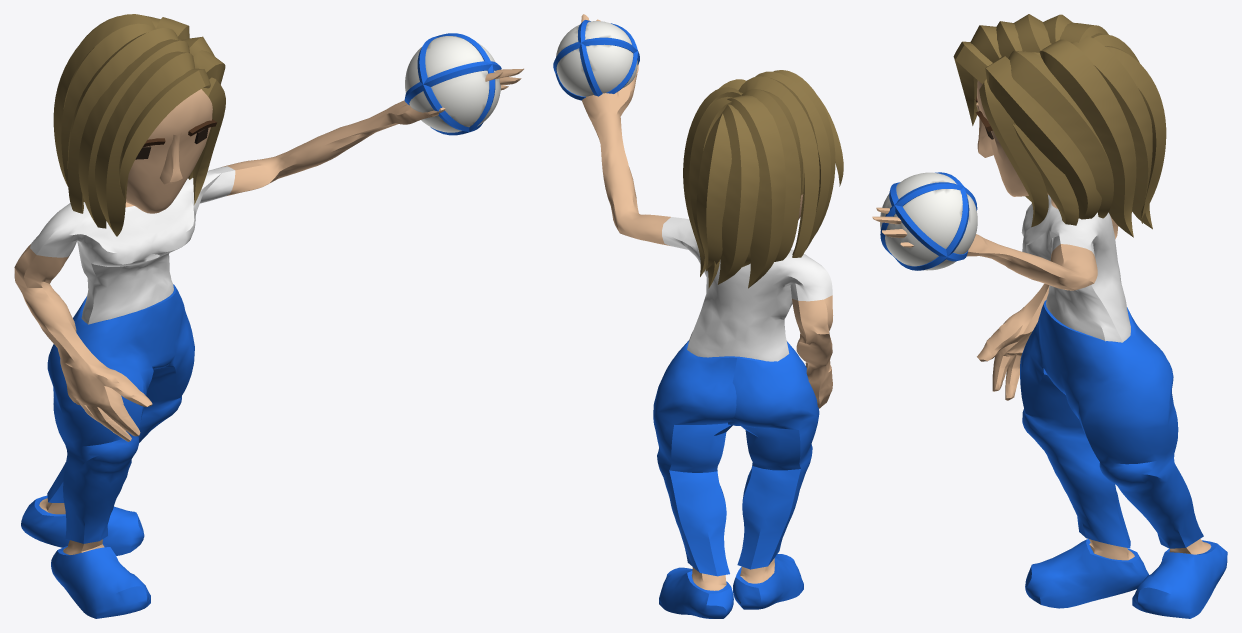
File: av-menina-volei.glb
3 views of the same model, side by side, from view 1: azimuth 30°, elevation 25°; view 2: azimuth 150°, elevation 25°; view 3: azimuth 270°, elevation 25° (orthographic). The views are drawn at different scales.
Parts seen in each view (by area): view 1: Ad_bola_volei_0_0; view 2: Ad_bola_volei_0_0; view 3: Ad_bola_volei_0_0.
Boxes of the visible parts, left/top/right/bottom form: Ad_bola_volei_0_0: left=14, top=14, right=523, bottom=618; Ad_bola_volei_0_0: left=553, top=14, right=843, bottom=618; Ad_bola_volei_0_0: left=872, top=14, right=1227, bottom=618.
Bounding box in the file's own units: 0.9873 × 1.37 × 0.7479.
1 material, 1 textured.
